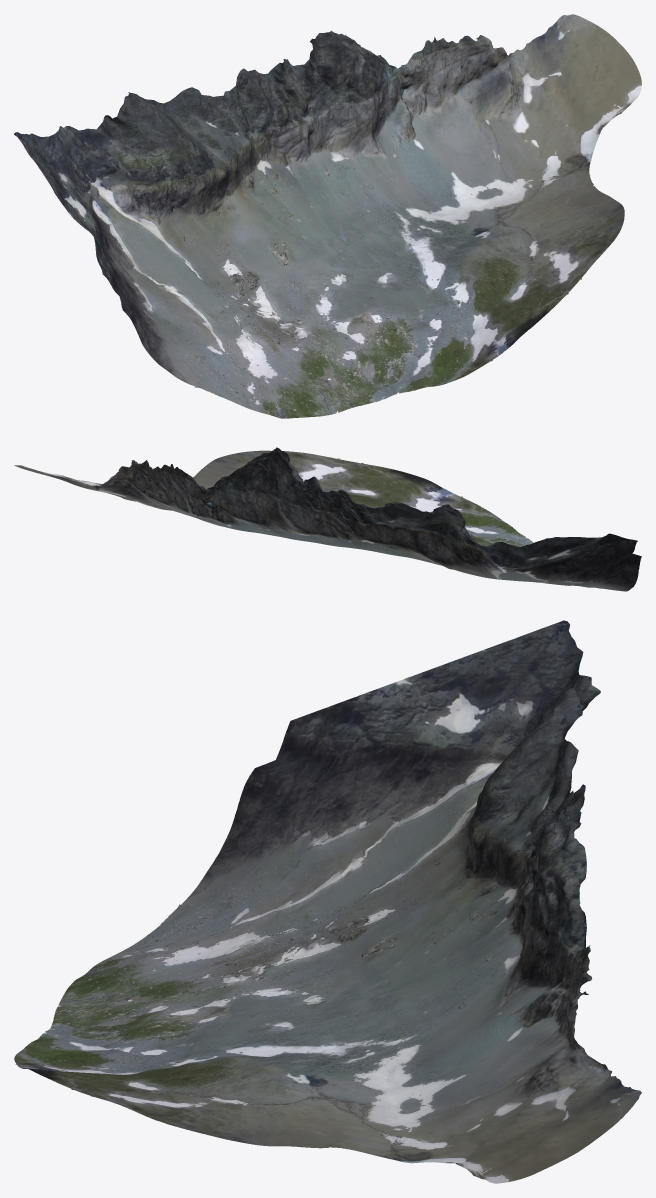
Rendered from Glarus thrust.fbx.
3 renders of one model, top to bottom at view 1: azimuth 30°, elevation 25°; view 2: azimuth 150°, elevation 25°; view 3: azimuth 270°, elevation 25°, orthographic. The views are drawn at different scales.
Visible parts, largest first — view 1: Model; view 2: Model; view 3: Model.
Part boxes in pixels (x1,y1,x2,y2): Model: (14, 14, 641, 418); Model: (14, 447, 641, 591); Model: (14, 620, 641, 1183).
Size of the model in its own units: 10963 by 3667 by 6561.
